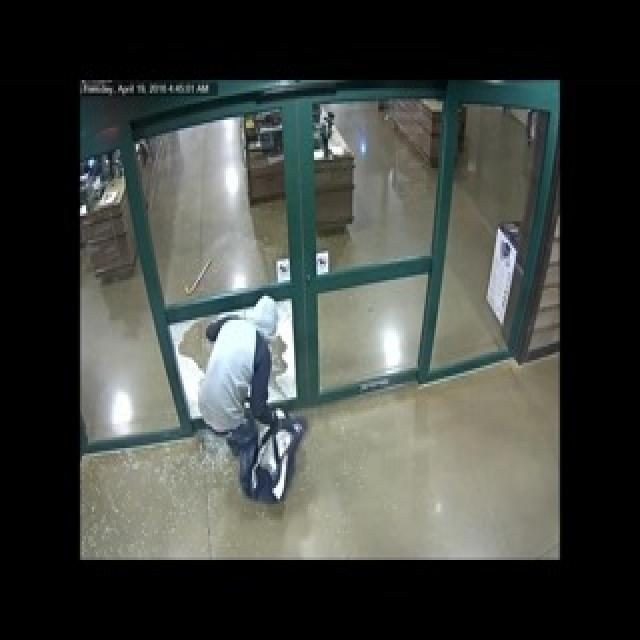burglary: (169, 274, 320, 459)
